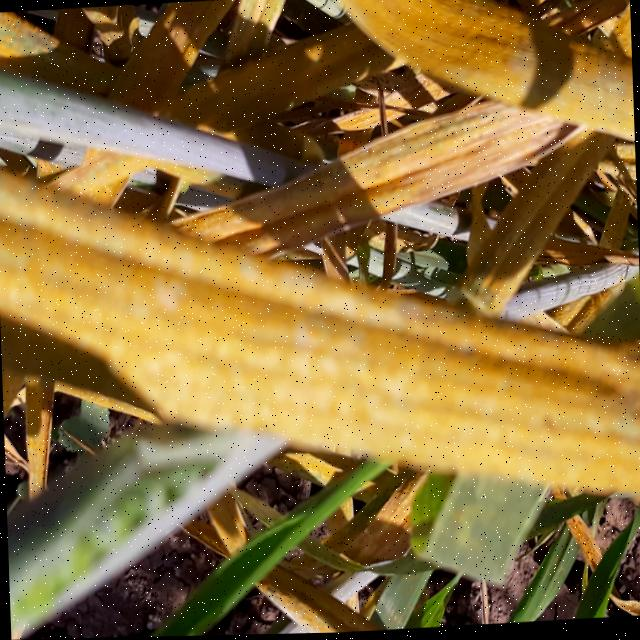yellow_rust: (0, 127, 640, 534), (292, 0, 635, 196), (0, 0, 289, 127), (263, 557, 437, 635), (174, 479, 267, 570), (545, 512, 608, 597), (608, 578, 640, 619)
